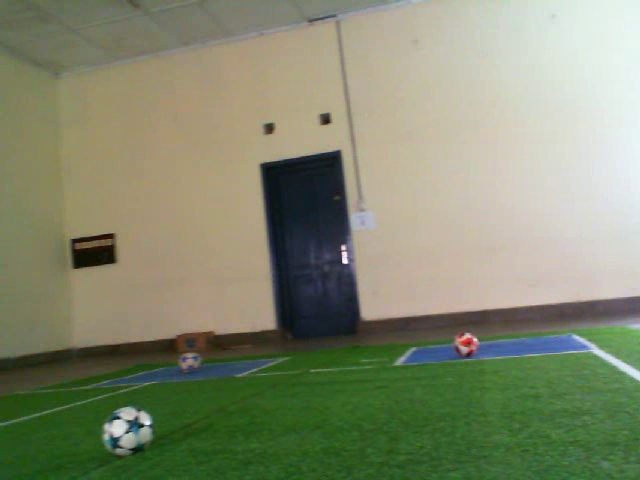ball: (97, 402, 157, 463), (450, 328, 482, 361), (175, 349, 205, 377)
